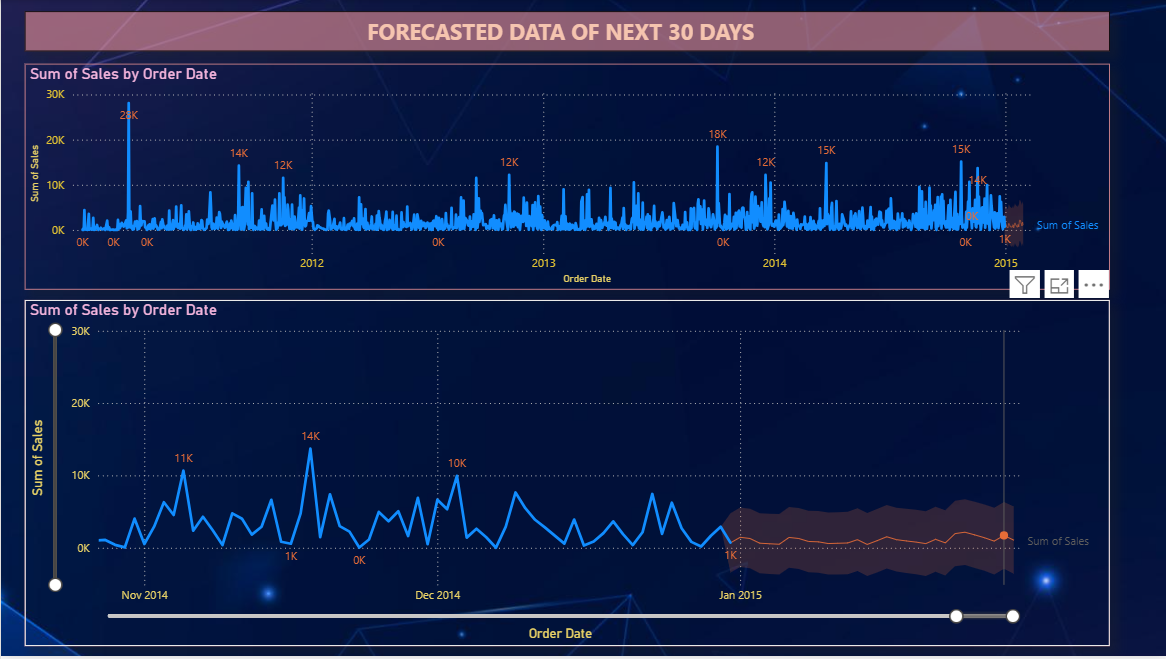

The page's visual inventory and layout, read from the dashboard file:
{"tool":"powerbi","page":{"name":"Page 2","canvas":[1280,720],"ordinal":1},"visuals":[{"type":"lineChart","fields":{"Y":["Sum(Orders.Sales)"],"Category":["Orders.Order Date"]},"box":[26.1,70,1191.1,248.4],"z":0},{"type":"lineChart","fields":{"Y":["Sum(Orders.Sales)"],"Category":["Orders.Order Date"]},"box":[26.1,329.3,1191.1,380.1],"z":1000},{"type":"textbox","box":[26.1,12.3,1191.1,43.9],"z":1001}]}

Visuals, with their boxes in screenshot pixels (x1, y1, x2, y2), scaled from the page's 1280x720 canvas onto the 1166x659 screenshot:
lineChart - Sum(Orders.Sales) x Orders.Order Date: left=24, top=64, right=1109, bottom=291
lineChart - Sum(Orders.Sales) x Orders.Order Date: left=24, top=301, right=1109, bottom=649
textbox: left=24, top=11, right=1109, bottom=51
